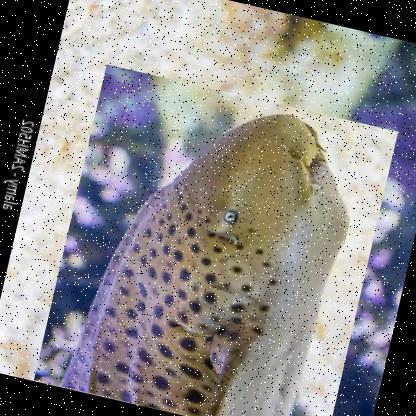zebra_shark: (33, 62, 399, 415)
